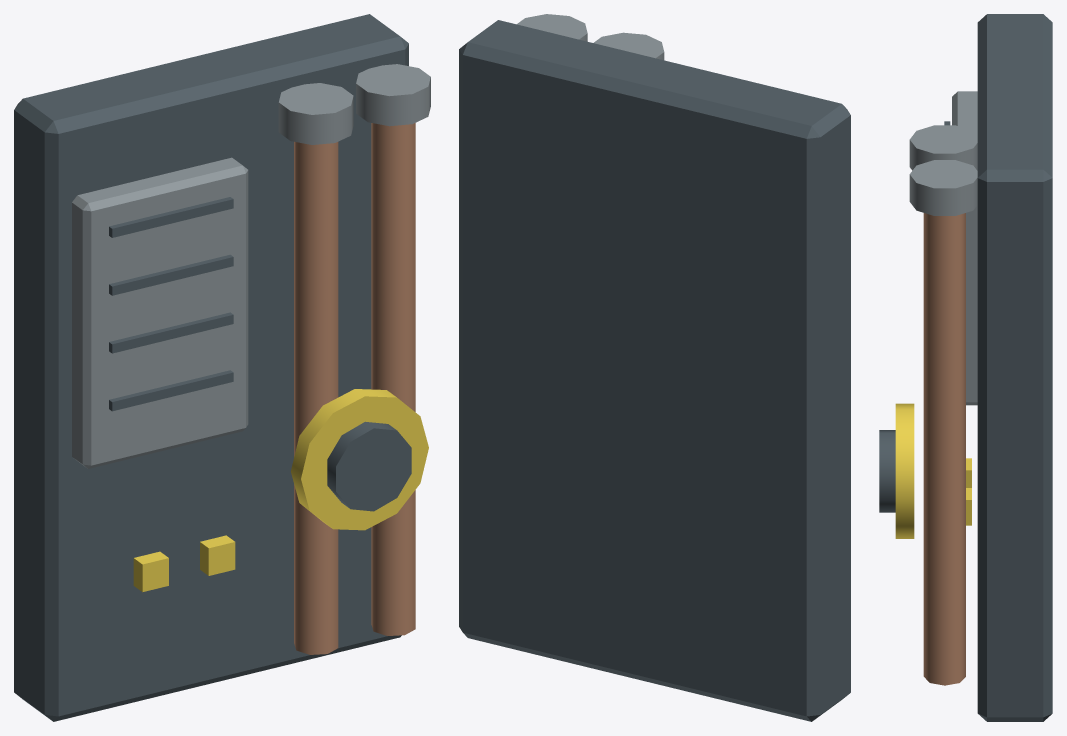
Rendered from cradle_switchgear.glb.
3 views of the same model, side by side, from view 1: azimuth 30°, elevation 25°; view 2: azimuth 150°, elevation 25°; view 3: azimuth 270°, elevation 25° (orthographic). The views are drawn at different scales.
Parts seen in each view (by area): view 1: darksteel, steel, rust, rust.001, hazard, darksteel.005, steel.001, steel.002, darksteel.001, darksteel.002, darksteel.003, darksteel.004 (+2 smaller); view 2: darksteel, steel.001, steel.002; view 3: darksteel, rust.001, steel.002, steel, hazard, steel.001, darksteel.005.
Part boxes in pixels (x1,y1,x2,y2): darksteel: (14, 14, 408, 721); steel: (72, 157, 248, 468); rust: (294, 141, 338, 654); rust.001: (371, 123, 415, 635); hazard: (291, 389, 428, 530); darksteel.005: (327, 421, 411, 511); steel.001: (278, 83, 353, 144); steel.002: (356, 64, 430, 126); darksteel.001: (109, 370, 233, 411); darksteel.002: (109, 312, 233, 353); darksteel.003: (109, 254, 233, 295); darksteel.004: (109, 197, 233, 237); darksteel: (459, 20, 850, 721); steel.001: (594, 32, 664, 60); steel.002: (517, 14, 587, 41); darksteel: (977, 14, 1052, 721); rust.001: (923, 213, 965, 685); steel.002: (909, 160, 977, 215); steel: (952, 91, 977, 405); hazard: (895, 403, 914, 538); steel.001: (909, 125, 977, 170); darksteel.005: (879, 430, 895, 512).
Size of the model in its own units: 1.65 by 2.6 by 0.74.
